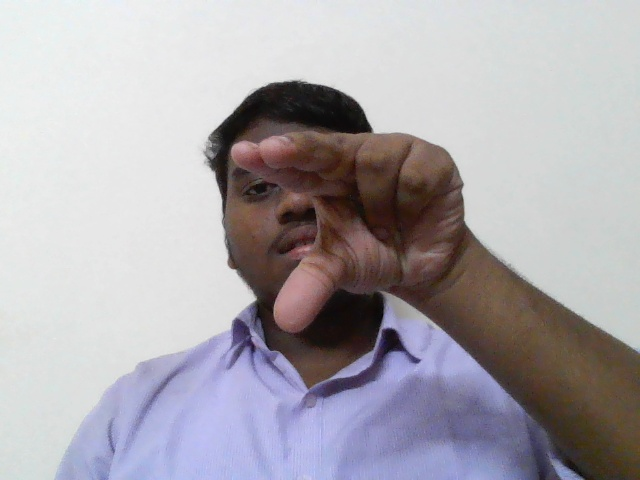No: (221, 129, 497, 336)
